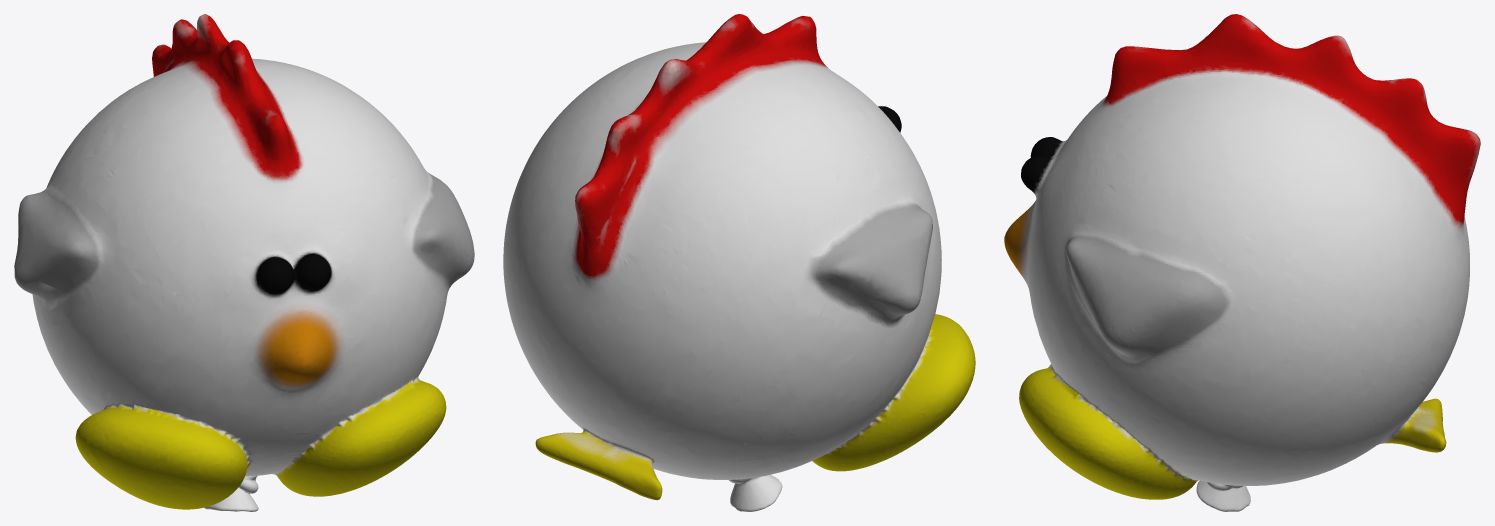
Rendered from medium__rooster-balloon.glb.
3 views of the same model, side by side, from view 1: azimuth 30°, elevation 25°; view 2: azimuth 150°, elevation 25°; view 3: azimuth 270°, elevation 25° (orthographic). The views are drawn at different scales.
Parts seen in each view (by area): view 1: Object_2; view 2: Object_2; view 3: Object_2.
Boxes of the visible parts, x1,y1,x2,y2 form: Object_2: [14, 14, 474, 511]; Object_2: [503, 14, 975, 511]; Object_2: [1004, 14, 1480, 511].
Bounding box in the file's own units: 331 × 384 × 335.
